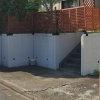stairs: (57, 40, 81, 74)
